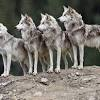Lobo: (59, 5, 98, 66), (12, 15, 45, 71), (33, 13, 62, 71)
